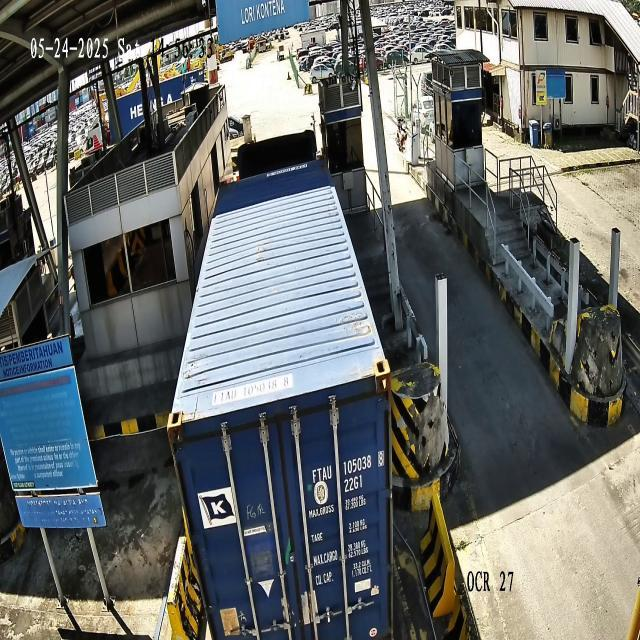ISO: (343, 474, 362, 492)
container_number: (310, 448, 386, 483)
